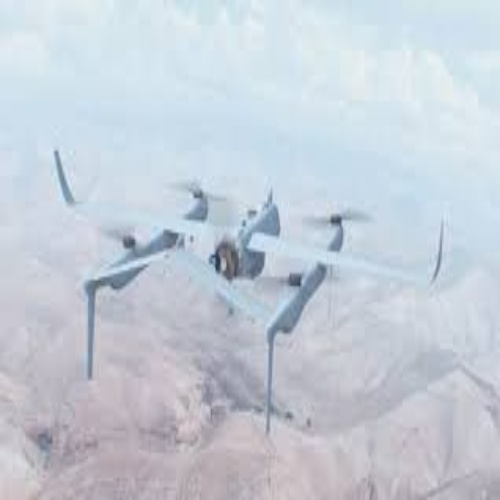uav120: (45, 148, 445, 434)
